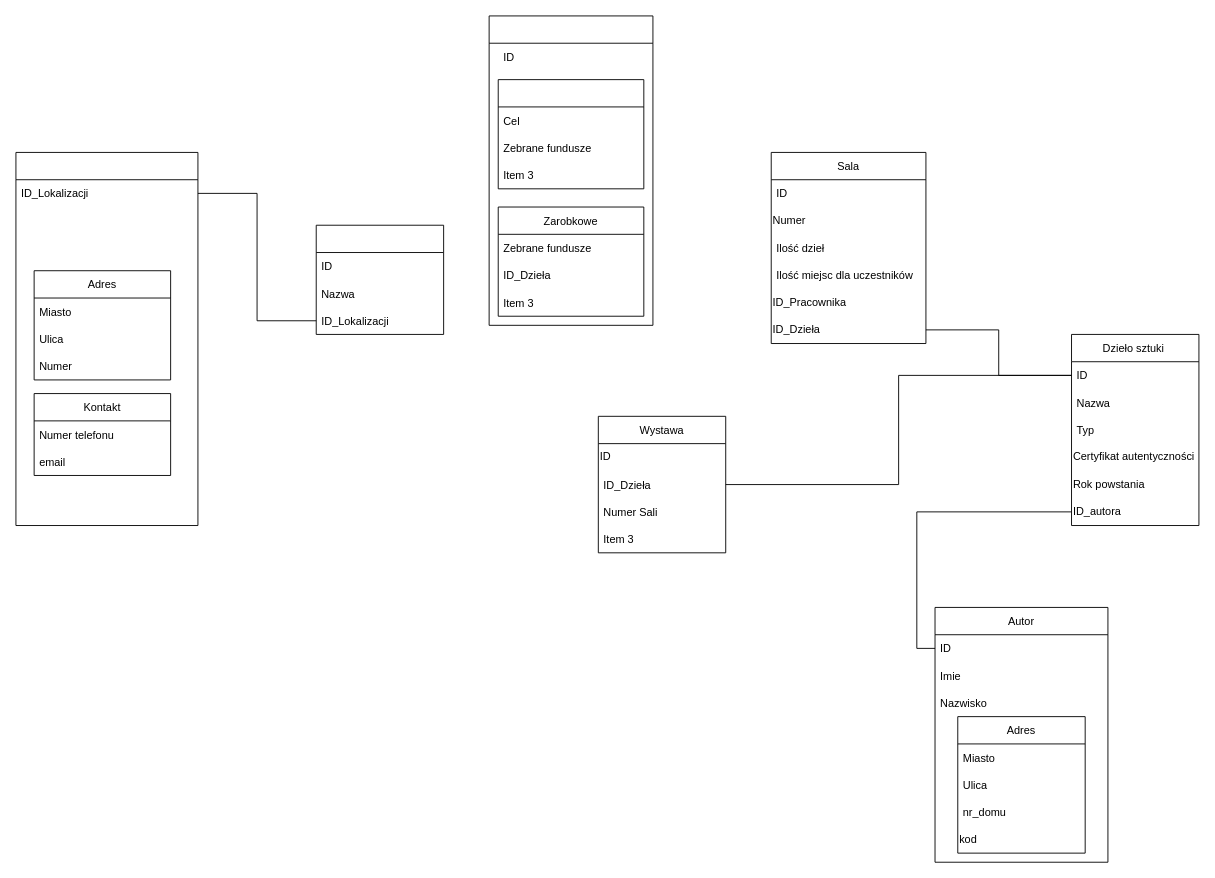
This 1215x878 diagram has some shape labels left out. The box of each missing label's shape, as (x1, y1, x2, y2) in pixels:
Aukcje: (488, 15, 653, 325)
Charytatywne: (497, 79, 644, 189)
Galeria Sztuki: (315, 224, 444, 334)
Lokalizacja: (15, 152, 198, 526)
